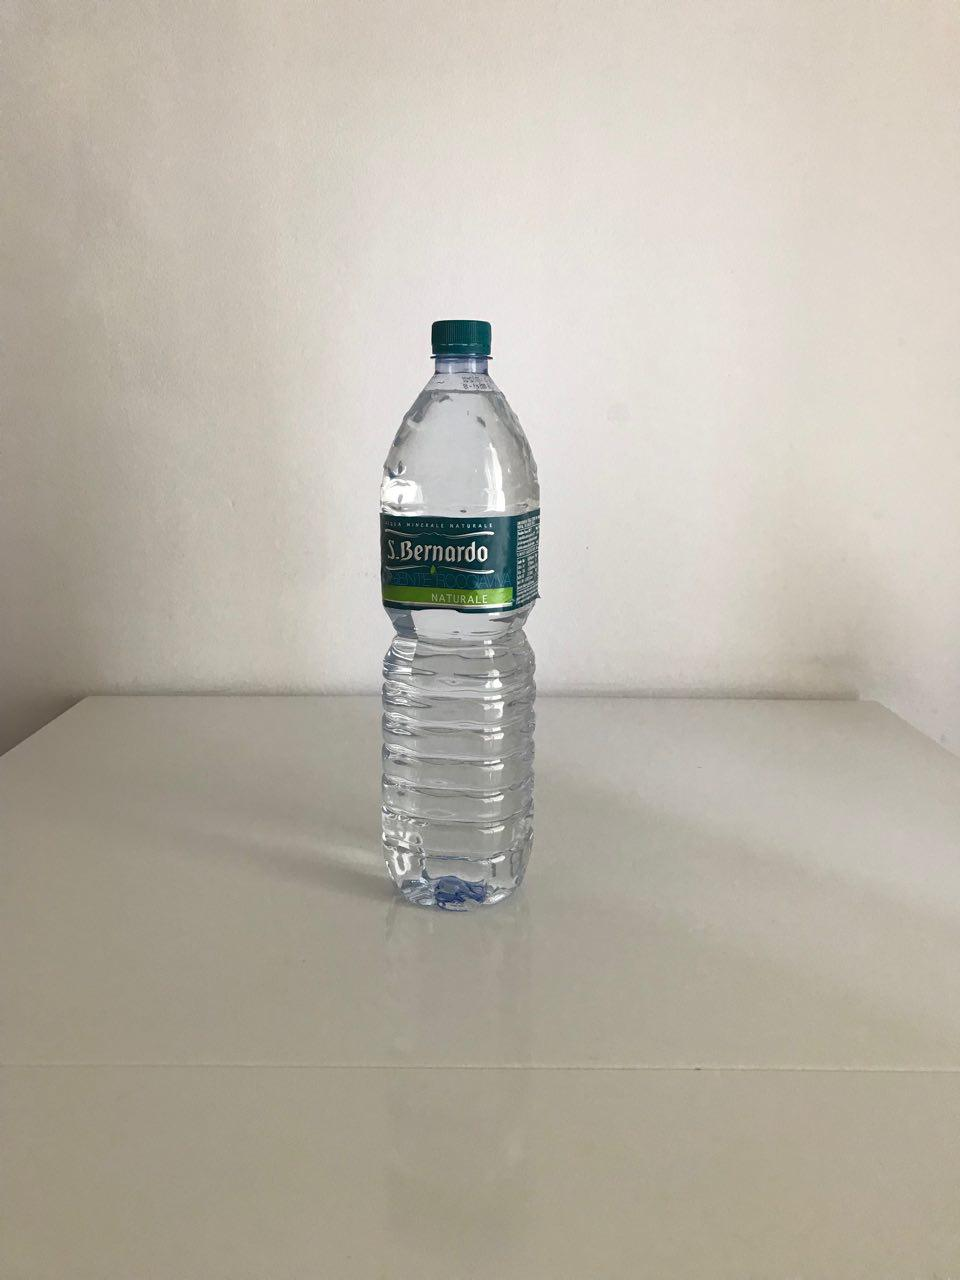san_bernardo: (379, 317, 544, 916)
